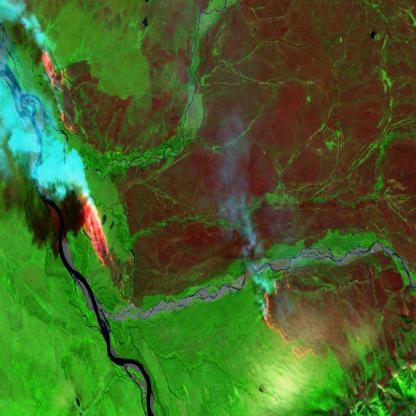fire: (260, 266, 318, 369), (73, 186, 120, 278), (40, 48, 78, 138)
